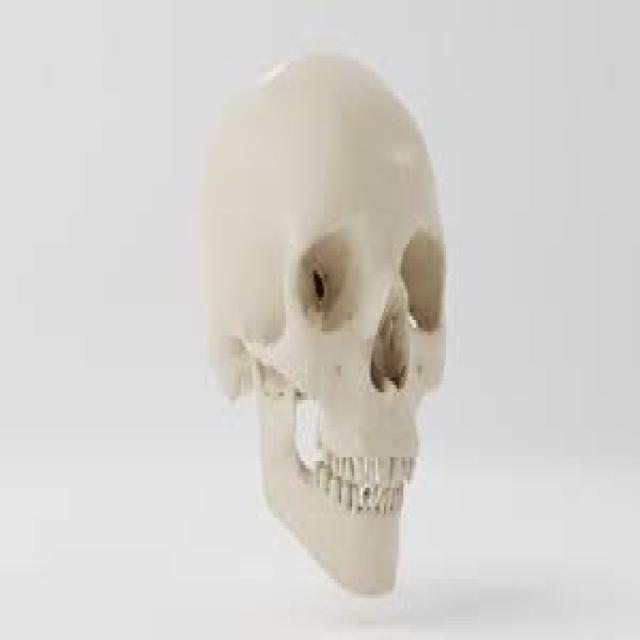skull: (188, 11, 462, 620)
